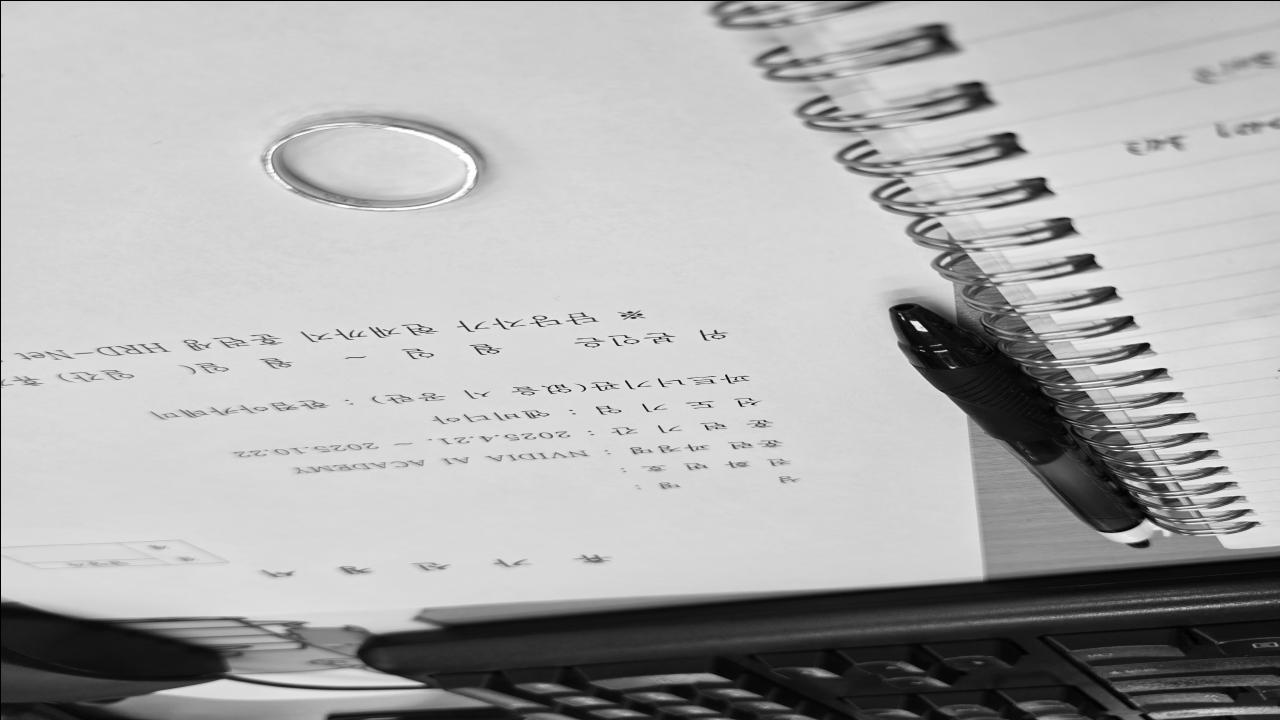ring: (253, 112, 482, 212)
